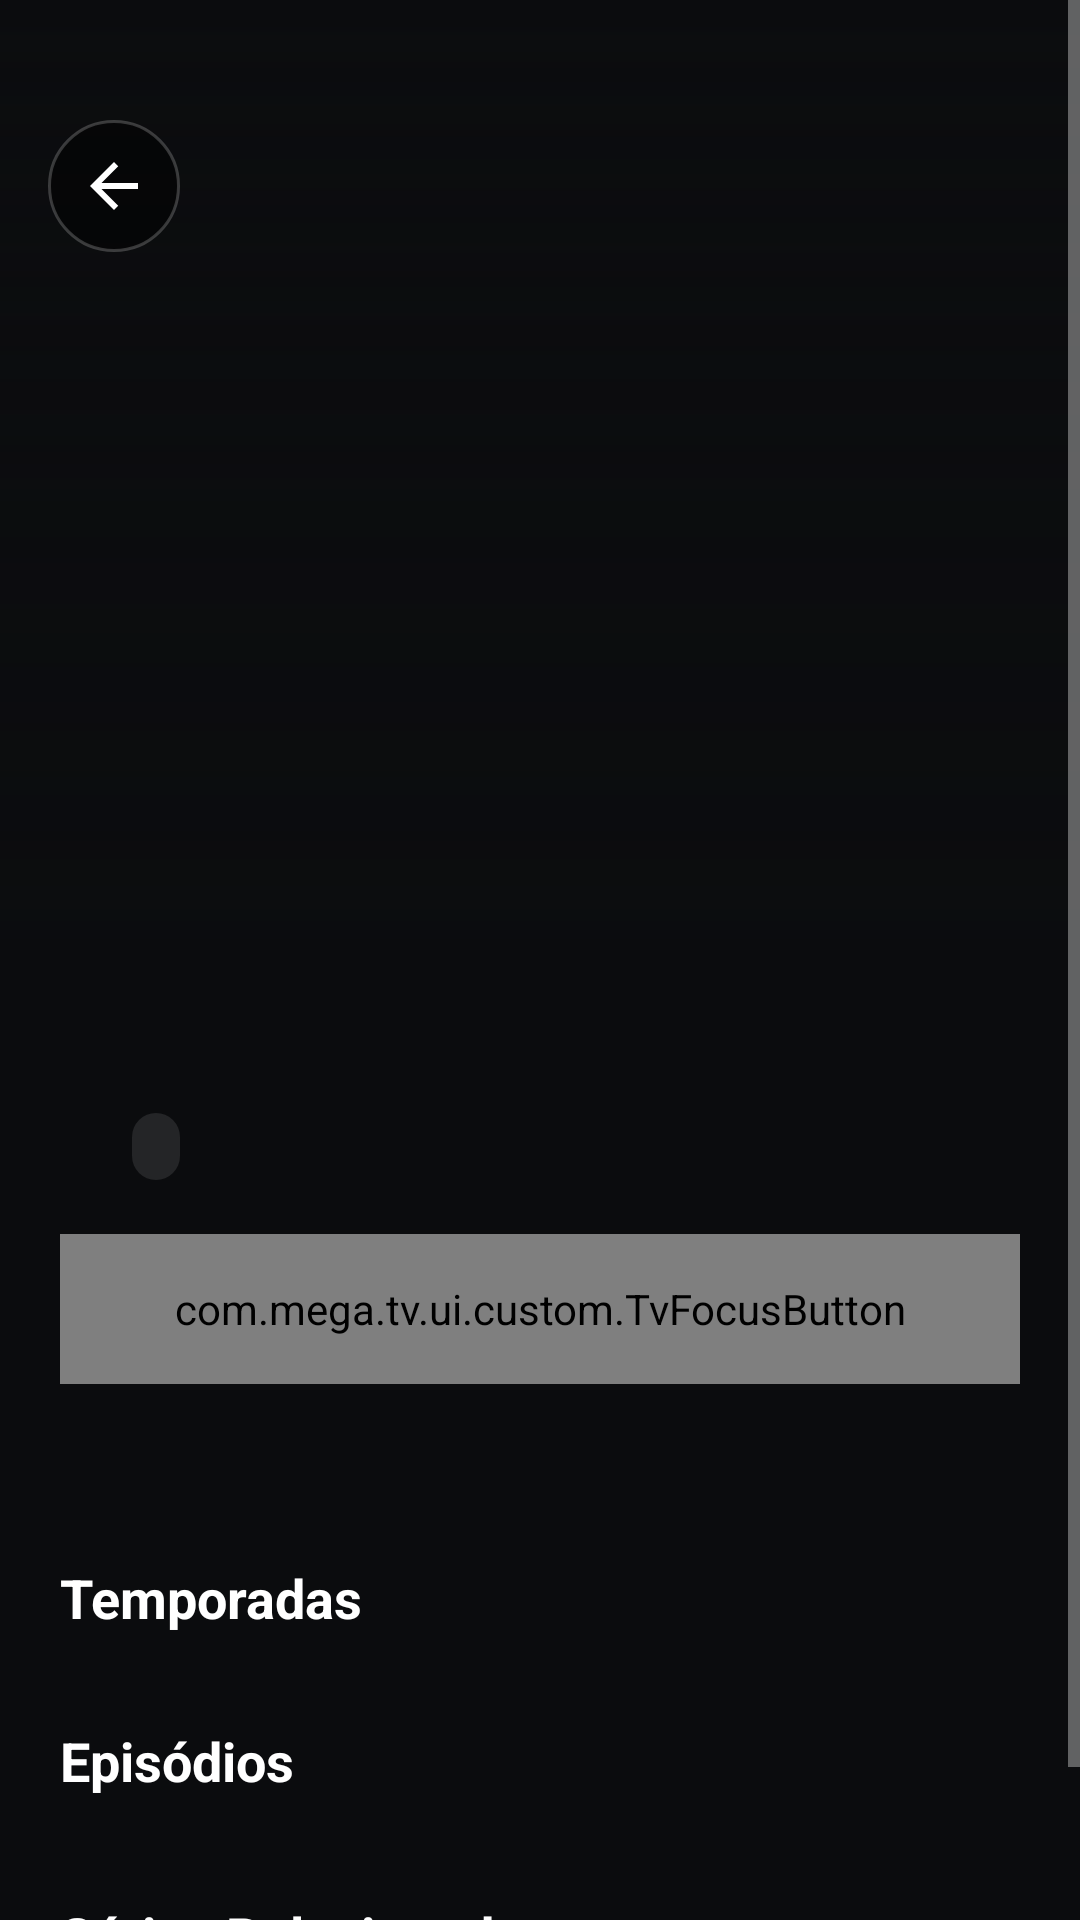

Named icons in this screenshot (1080*1920) and their bounding boxes, BBox(x1, y1, x2, y2):
Voltar: BBox(48, 120, 180, 252)
